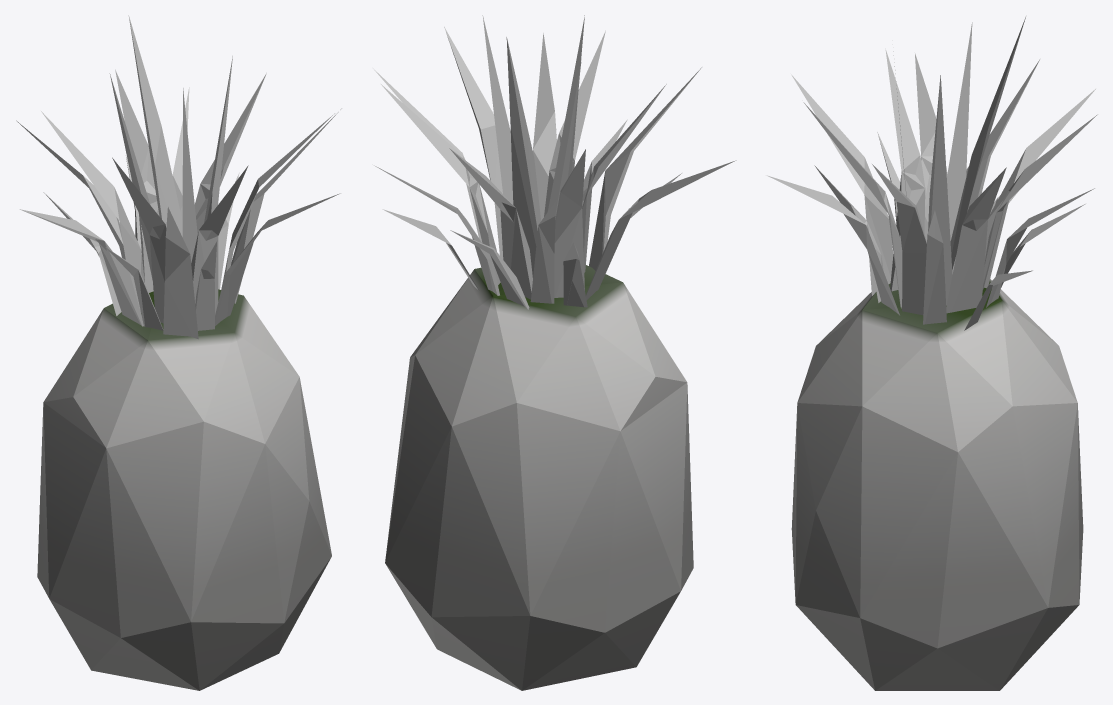
Rendered from Pineapple_01.fbx.
3 views of the same model, side by side, from view 1: azimuth 30°, elevation 25°; view 2: azimuth 150°, elevation 25°; view 3: azimuth 270°, elevation 25° (orthographic). The views are drawn at different scales.
Visible parts, largest first — view 1: Pineapple_01; view 2: Pineapple_01; view 3: Pineapple_01.
Part boxes in pixels (x1,y1,x2,y2): Pineapple_01: (16, 15, 341, 690); Pineapple_01: (373, 15, 736, 690); Pineapple_01: (766, 17, 1097, 690).
Bounding box in the file's own units: 0.2723 × 0.4748 × 0.2241.
